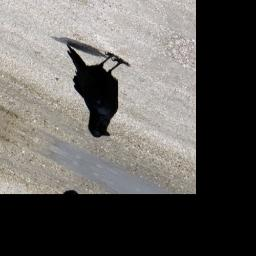Crow: (40, 32, 138, 145)
